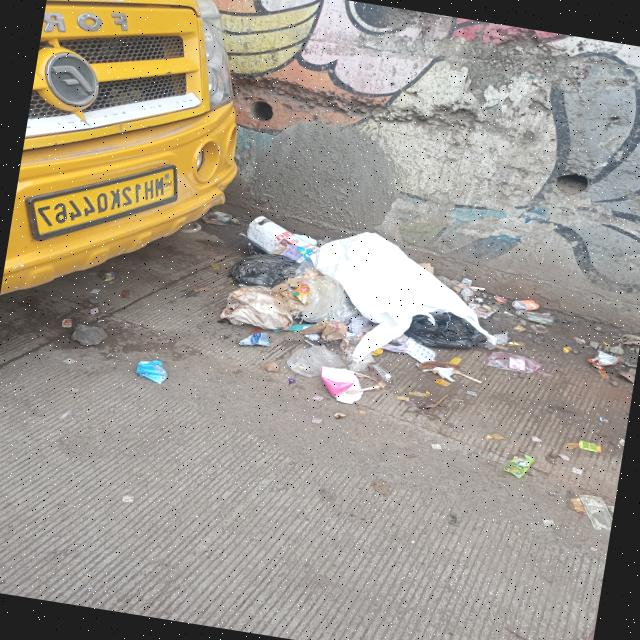garbage: (165, 191, 572, 428)
